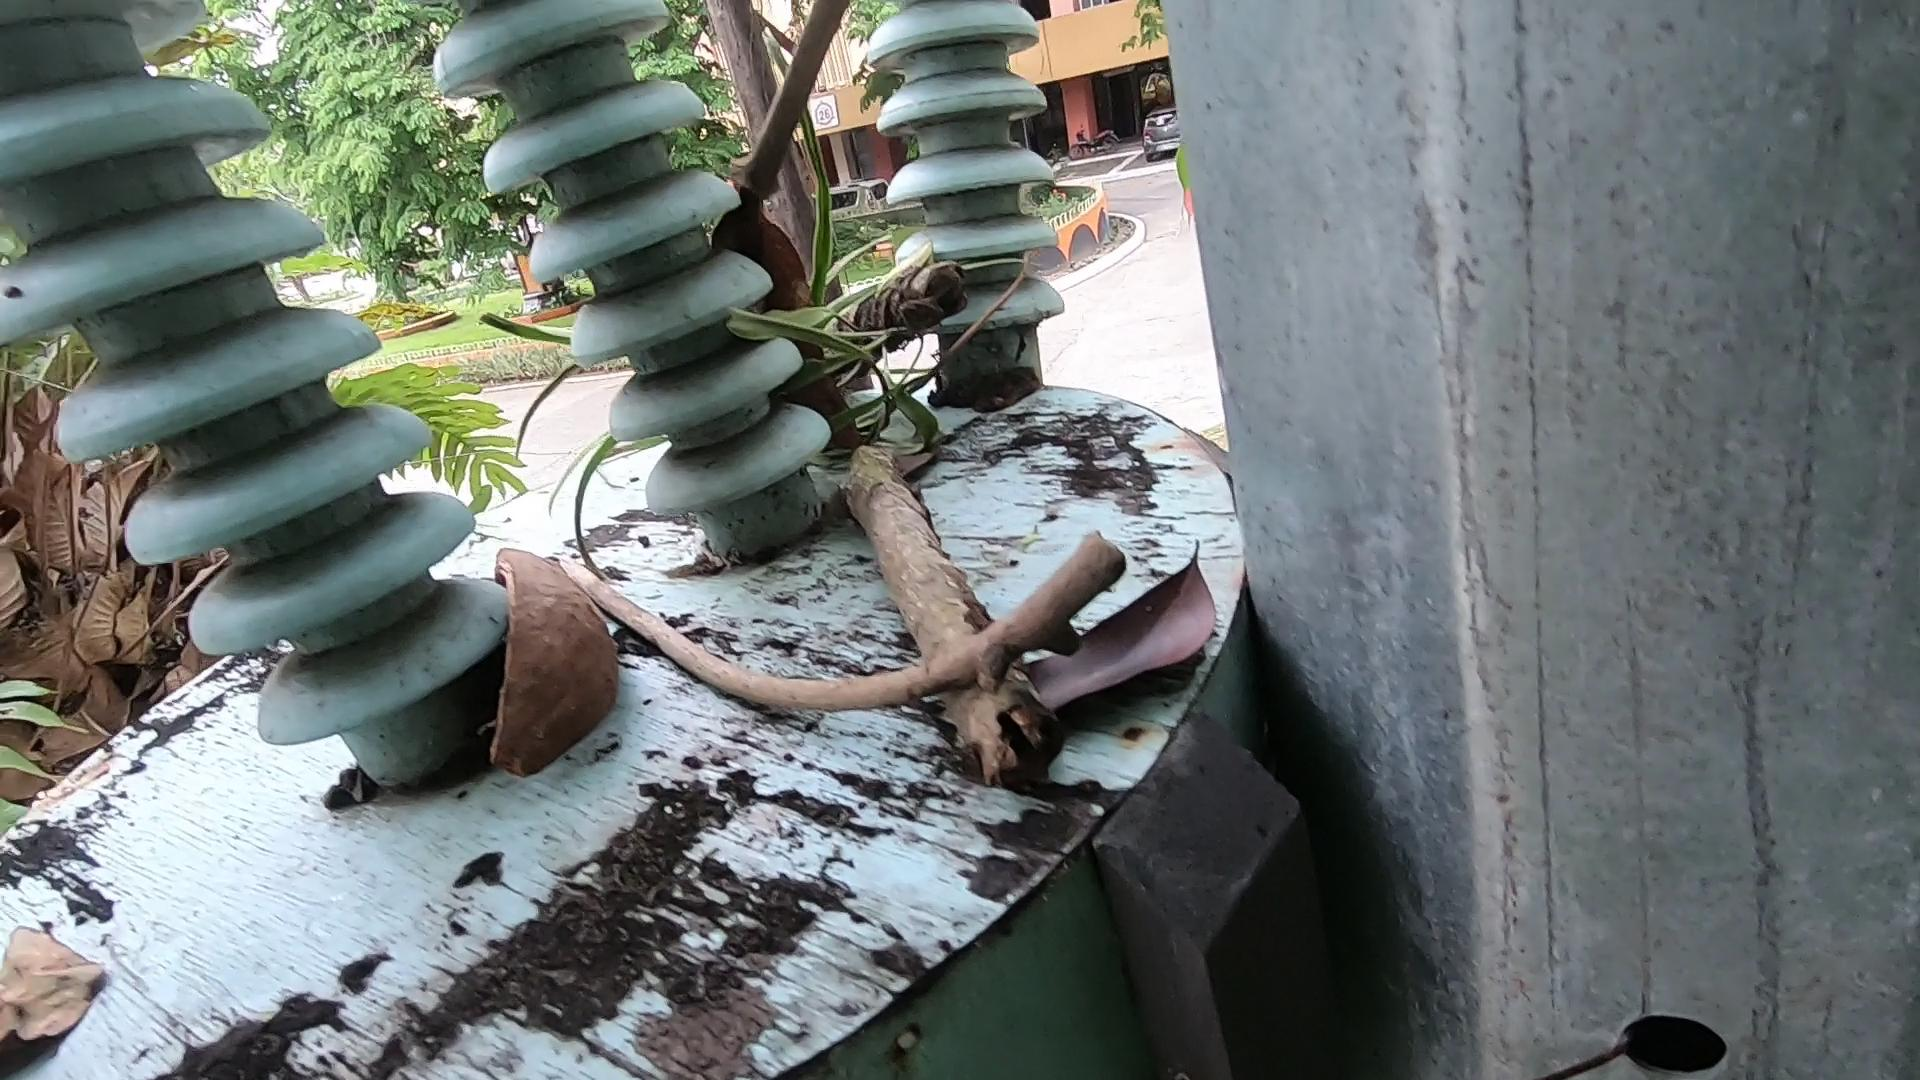branch with leaves: (791, 225, 1114, 1073)
leaf: (989, 596, 1261, 742), (3, 899, 135, 1063)
mahogany fruit: (655, 119, 926, 521), (429, 498, 624, 847)
tree branch: (558, 559, 1182, 748), (702, 28, 906, 244)
